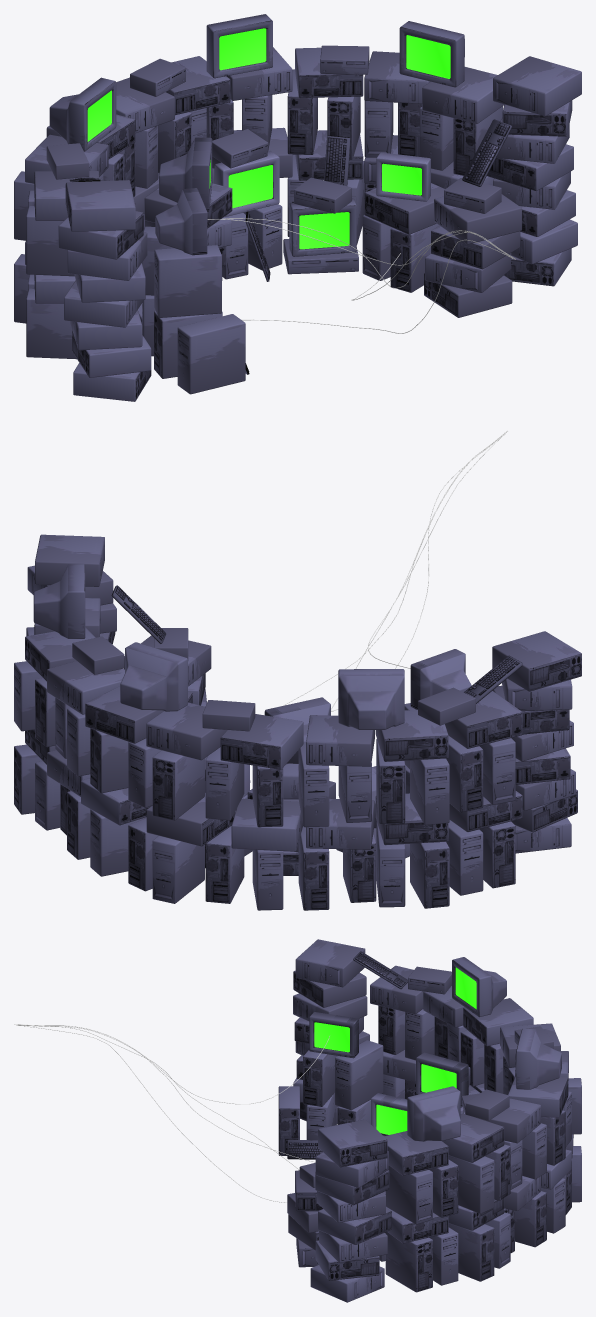
File: OldComputers2.4.glb
3 views of the same model, one above another, from view 1: azimuth 30°, elevation 25°; view 2: azimuth 150°, elevation 25°; view 3: azimuth 270°, elevation 25° (orthographic). The views are drawn at different scales.
Visible parts, largest first — view 1: PC 01.011, PC 01.010, PC 02.026, Screen D.003, Screen D.004, PC 02.012, Screen D.002, Screen D.001, PC 01.052, Screen C.001, PC 01.007, Screen B.002 (+67 smaller); view 2: Screen D.003, Screen D.002, PC 02.012, PC 01.032, PC 02.021, Screen D.004, PC 01.031, PC 01.033, PC 02.016, PC 02.026, PC 02.022, PC 01.030 (+55 smaller); view 3: PC 01.005, Screen D.004, PC 02.026, PC 02.012, Screen D.002, PC 02.027, PC 02.032, Screen D.003, Screen B.002, PC 01.052, PC 01.038, PC 01.047 (+51 smaller).
Part boxes in pixels (x1,y1,x2,y2): PC 01.011: (177, 314, 245, 394); PC 01.010: (154, 245, 221, 317); PC 02.026: (493, 56, 581, 116); Screen D.003: (206, 14, 272, 78); Screen D.004: (399, 21, 464, 87); PC 02.012: (65, 180, 135, 231); Screen D.002: (49, 77, 116, 151); Screen D.001: (289, 198, 356, 256); PC 01.052: (422, 67, 503, 123); Screen C.001: (214, 150, 279, 216); PC 01.007: (434, 194, 521, 244); Screen B.002: (155, 188, 207, 255); Screen D.003: (120, 642, 187, 711); Screen D.002: (338, 669, 404, 729); PC 02.012: (492, 631, 581, 691); PC 01.032: (220, 714, 303, 769); PC 02.021: (152, 750, 204, 820); Screen D.004: (33, 564, 85, 638); PC 01.031: (306, 715, 374, 766); PC 01.033: (146, 702, 226, 760); PC 02.016: (152, 836, 204, 903); PC 02.026: (35, 534, 104, 586); PC 02.022: (375, 709, 448, 761); PC 01.030: (445, 691, 522, 748); PC 01.005: (335, 1040, 383, 1110); Screen D.004: (407, 1086, 460, 1141); PC 02.026: (318, 1119, 387, 1167); PC 02.012: (295, 939, 365, 987); Screen D.002: (452, 957, 506, 1017); PC 02.027: (385, 1232, 432, 1292); PC 02.032: (385, 1165, 432, 1224); Screen D.003: (516, 1028, 561, 1089); Screen B.002: (309, 1012, 358, 1058); PC 01.052: (384, 1131, 448, 1175); PC 01.038: (448, 1223, 494, 1281); PC 01.047: (448, 1155, 494, 1213).
Size of the model in its own units: 14.29 by 5.55 by 16.26.
Materials: 2 (1 with a texture image).
